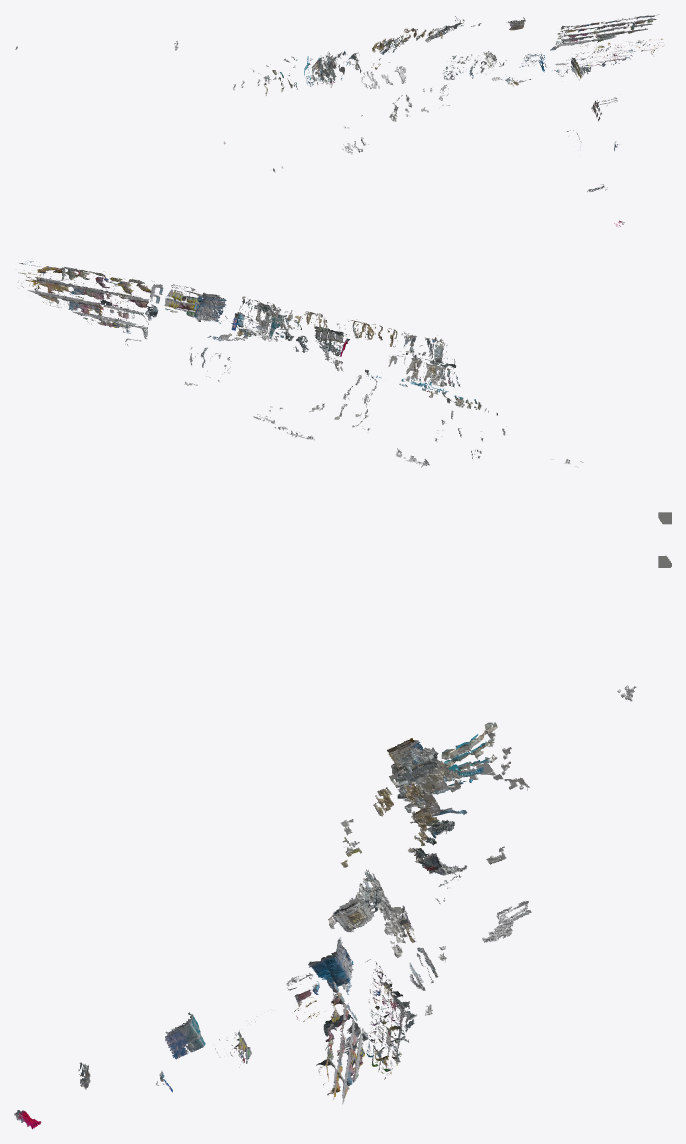
File: surfaces-1.glb
3 renders of one model, top to bottom at view 1: azimuth 30°, elevation 25°; view 2: azimuth 150°, elevation 25°; view 3: azimuth 270°, elevation 25°, orthographic. The views are drawn at different scales.
Parts seen in each view (by area): view 1: obj-1-582; view 2: obj-1-1302, obj-1-1497, obj-1-1400, obj-1-1589, obj-1-1462; view 3: obj-1-1497, obj-1-778, obj-1-1462.
Boxes of the visible parts, box(x1,y1,x2,y2) form: obj-1-582: box(591, 17, 639, 42); obj-1-1302: box(27, 267, 112, 322); obj-1-1497: box(366, 370, 497, 415); obj-1-1400: box(388, 355, 446, 386); obj-1-1589: box(197, 293, 222, 321); obj-1-1462: box(309, 369, 377, 427); obj-1-1497: box(429, 722, 497, 816); obj-1-778: box(165, 1012, 205, 1059); obj-1-1462: box(365, 874, 407, 957).
Size of the model in its own units: 49.32 by 12.92 by 29.08.
